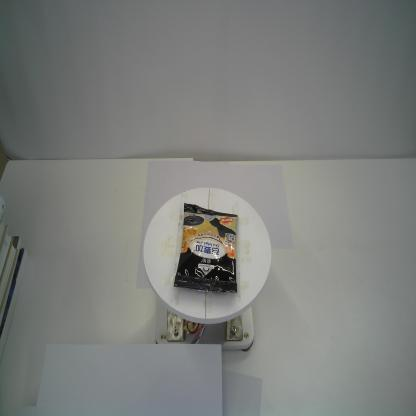Instant Drink: (173, 202, 238, 294)
